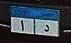alif: (20, 20, 25, 32)
daal: (43, 24, 51, 33)
